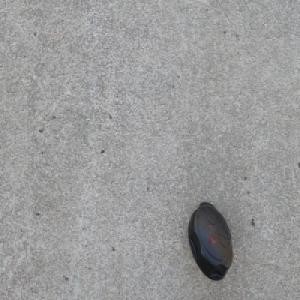FuelCap: (186, 199, 233, 282)
